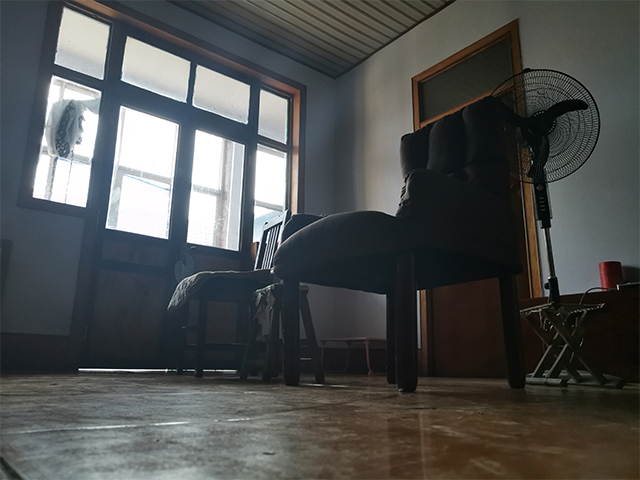stool: (269, 92, 529, 395), (173, 209, 292, 380), (517, 298, 626, 390)
